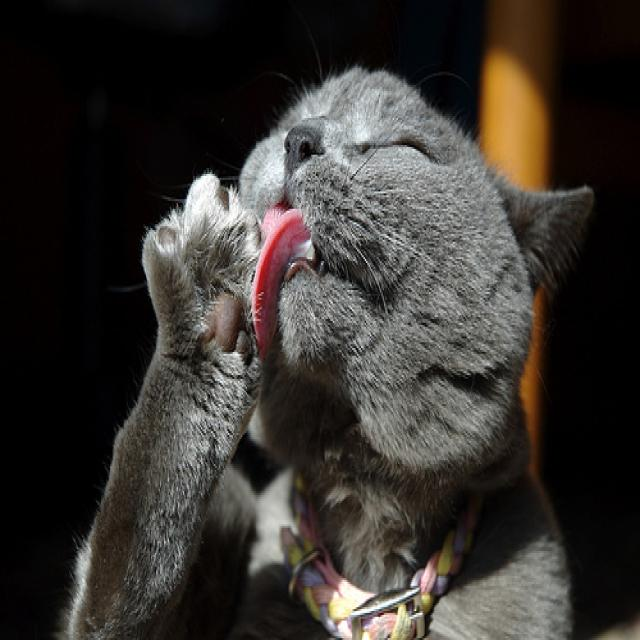cat: (68, 69, 596, 639)
